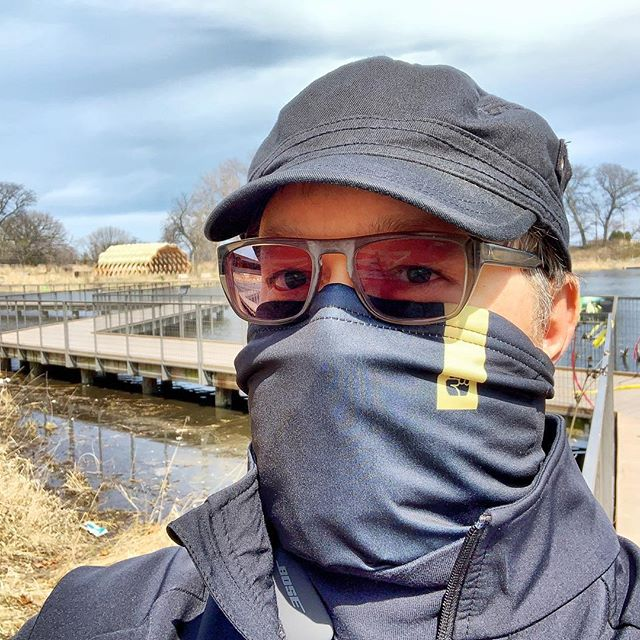homemade: (247, 297, 532, 540)
